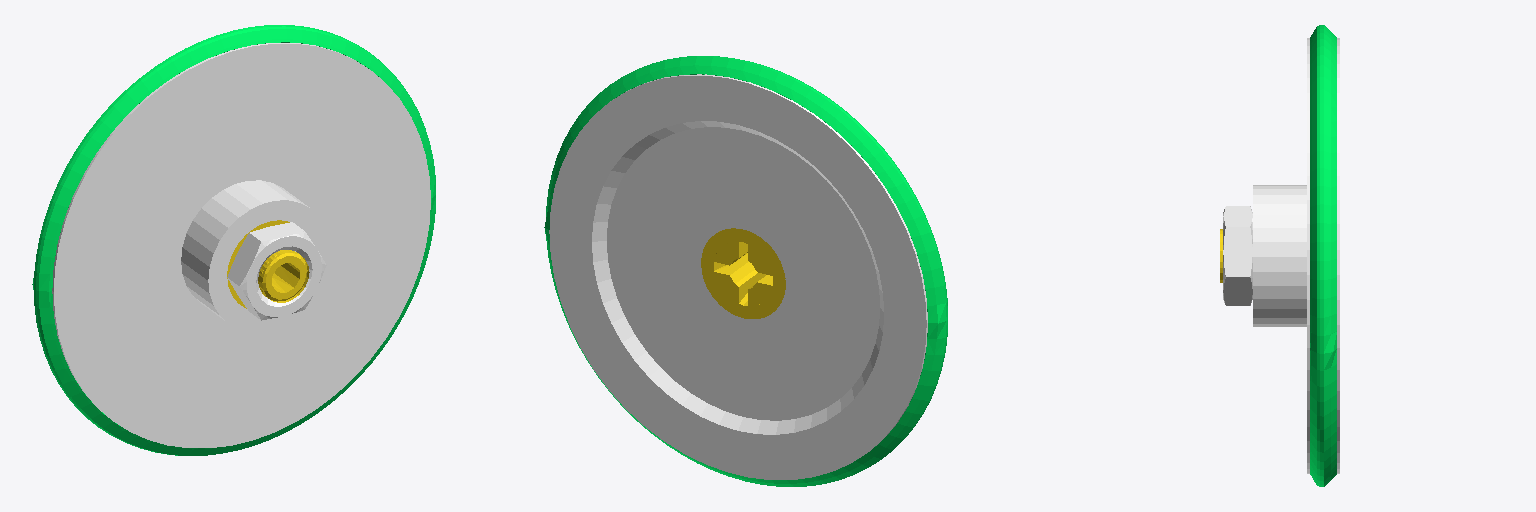
Rendered from pipuck-wheel.obj.
The picture shows the model from 3 angles: view 1: azimuth 30°, elevation 25°; view 2: azimuth 150°, elevation 25°; view 3: azimuth 270°, elevation 25°; orthographic projection.
Parts seen in each view (by area): view 1: mesh 2 epuck_wheel-1-surface1 face, mesh 3 epuck_wheel-1-solid1 face, mesh 1 Wheel; view 2: mesh 2 epuck_wheel-1-surface1 face, mesh 3 epuck_wheel-1-solid1 face, mesh 1 Wheel; view 3: mesh 2 epuck_wheel-1-surface1 face, mesh 3 epuck_wheel-1-solid1 face.
Boxes of the visible parts, <box> form: mesh 2 epuck_wheel-1-surface1 face: <box>52,43,430,447</box>; mesh 3 epuck_wheel-1-solid1 face: <box>32,25,435,455</box>; mesh 1 Wheel: <box>227,220,309,308</box>; mesh 2 epuck_wheel-1-surface1 face: <box>549,74,927,479</box>; mesh 3 epuck_wheel-1-solid1 face: <box>544,56,947,486</box>; mesh 1 Wheel: <box>701,228,785,318</box>; mesh 2 epuck_wheel-1-surface1 face: <box>1223,38,1339,473</box>; mesh 3 epuck_wheel-1-solid1 face: <box>1310,25,1336,486</box>.
Size of the model in its own units: 0.0425 by 0.0425 by 0.011.